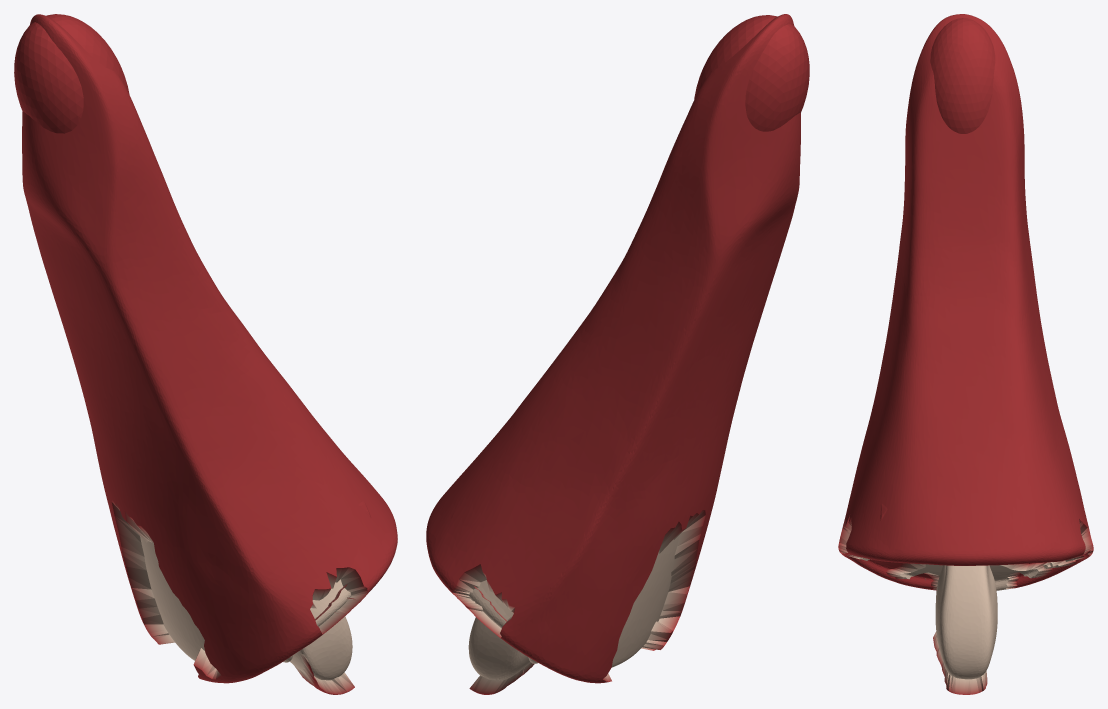
Rendered from arm_L.glb.
3 views of the same model, side by side, from view 1: azimuth 30°, elevation 25°; view 2: azimuth 150°, elevation 25°; view 3: azimuth 270°, elevation 25° (orthographic). The views are drawn at different scales.
Parts seen in each view (by area): view 1: geometry_0; view 2: geometry_0; view 3: geometry_0.
Part boxes in pixels (bbox=[...]): geometry_0: bbox=[14, 14, 397, 694]; geometry_0: bbox=[426, 14, 809, 694]; geometry_0: bbox=[838, 14, 1093, 694].
Bounding box in the file's own units: 0.3213 × 0.6529 × 0.2644.
